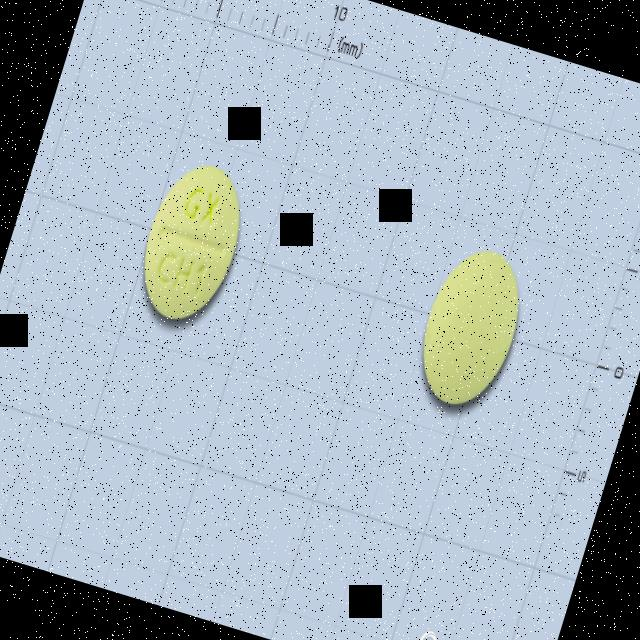Imuran: (126, 152, 258, 330)
